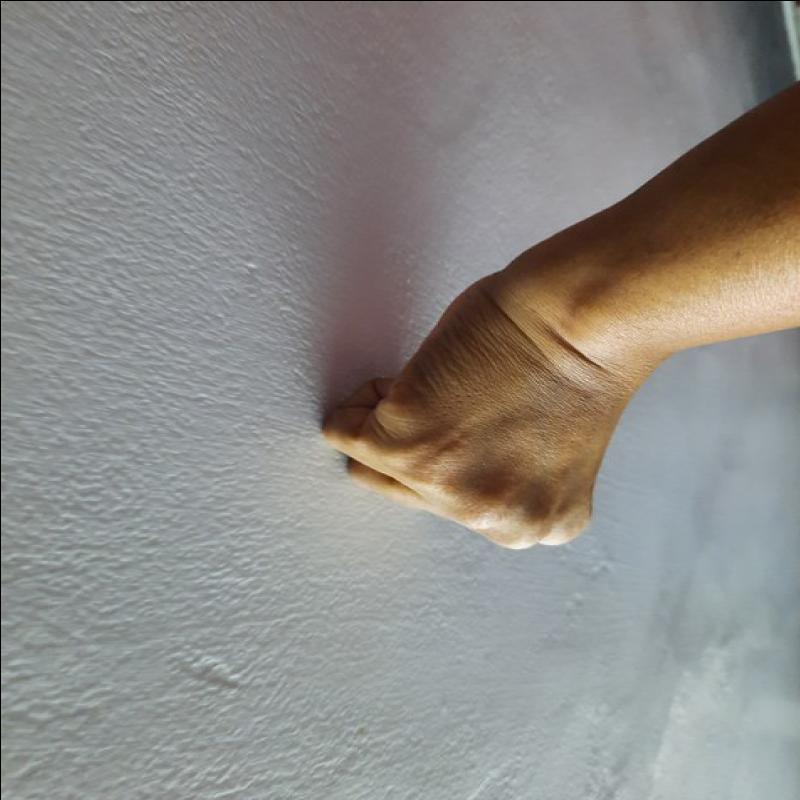Mushti: (309, 280, 667, 581)
